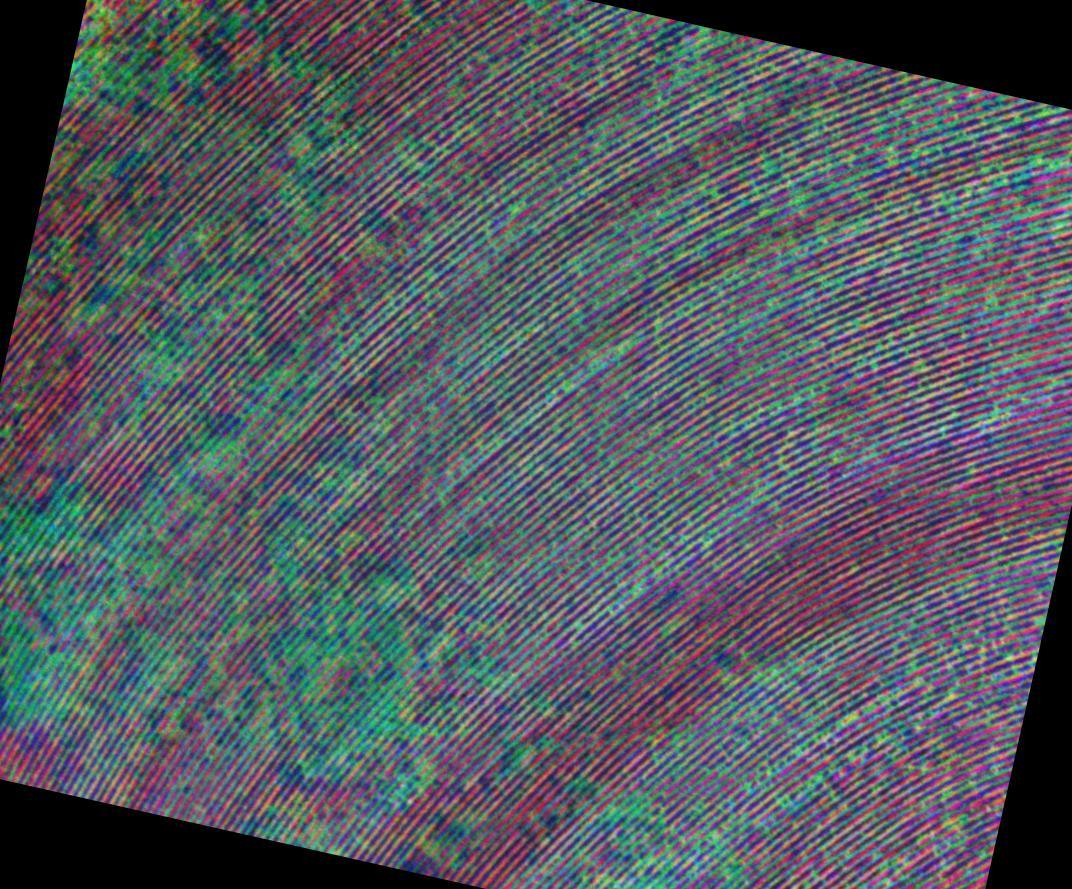dc: (563, 384, 568, 389), (143, 567, 148, 572), (678, 312, 683, 316), (621, 350, 625, 355), (72, 512, 76, 516), (944, 296, 948, 299), (766, 212, 769, 215), (1022, 214, 1025, 217), (641, 246, 644, 249), (724, 273, 726, 276)
